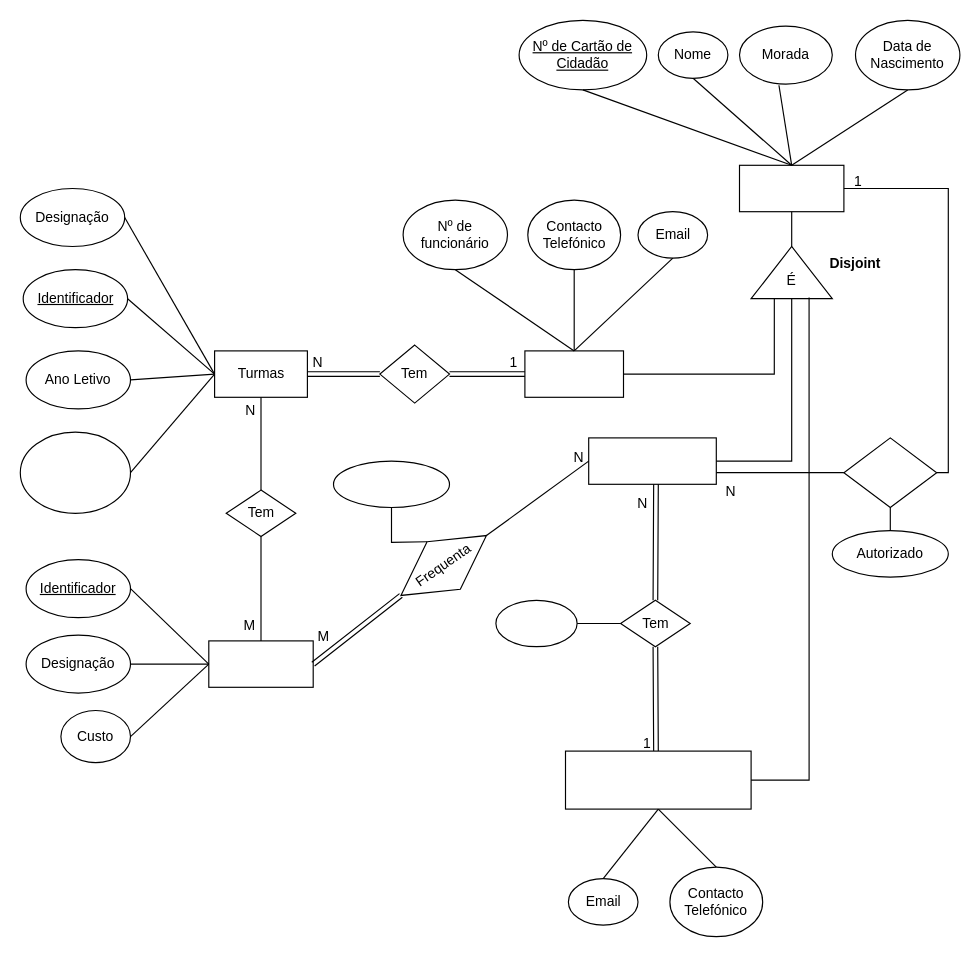
The diagram is 980 pixels wide and 957 high, and some of its shapes have lost their labels. Here are the shapes that lost their labels. From the top down, the box of each, then its label:
(738, 164, 844, 212): Pessoa
(524, 350, 624, 397): Professor
(19, 431, 130, 513): Nº Máximo de Alunos
(588, 437, 716, 484): Aluno
(843, 437, 937, 507): Entrega/ Levanta
(332, 460, 449, 507): Tem turma
(495, 599, 577, 647): Relação
(208, 640, 313, 687): Atividade
(564, 750, 751, 809): Encarregado de Educação
